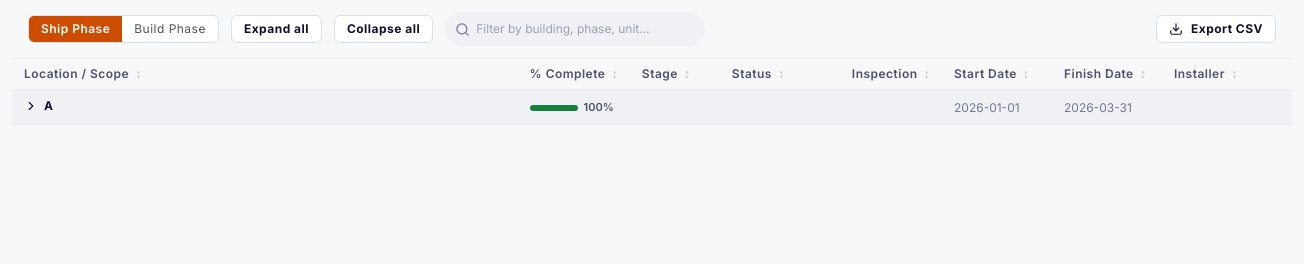
Scenario: LocationProgressBreakdown (component) › collapse all hides sub-rows after expand all
Click the button "Expand all" at coordinates (276, 29), box [231,15,322,43]
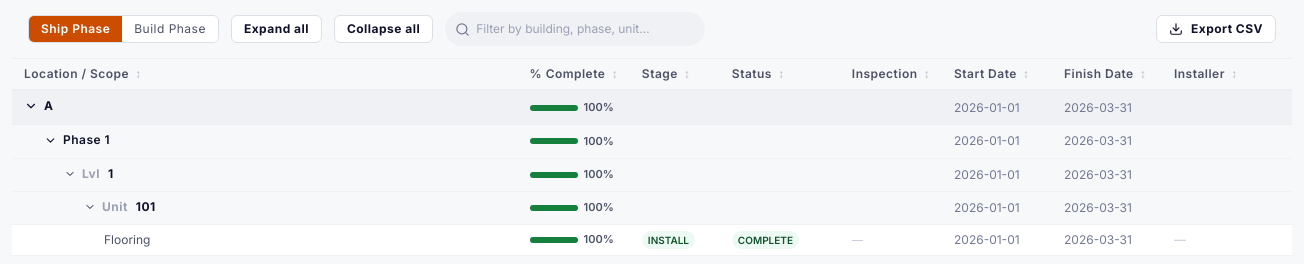
Expected: the button "Unit 101" is shown, [84,198,156,216]
Click the button "Collapse all" at coordinates (384, 29), box [334,15,433,43]
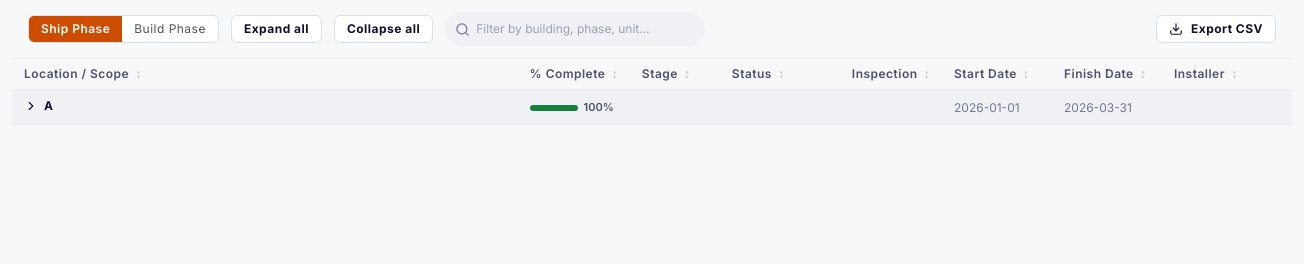
Expected: the button "101" is gone
